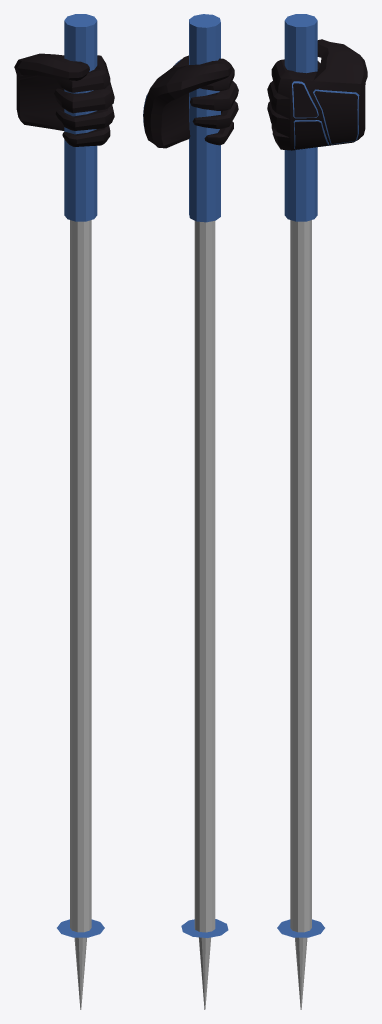
File: Za_Hando (2).fbx
The picture shows the model from 3 angles, left to right: view 1: azimuth 90°, elevation 25°; view 2: azimuth 150°, elevation 25°; view 3: azimuth 270°, elevation 25°; orthographic projection.
Parts seen in each view (by area): view 1: Stick.001, Cube.001, Stick, Spike; view 2: Stick.001, Cube.001, Stick, Spike; view 3: Stick.001, Cube.001, Stick, Edges, Spike.
Part boxes in pixels (x1,y1,x2,y2): Stick.001: [70, 220, 91, 932]; Cube.001: [14, 53, 114, 146]; Stick: [57, 14, 104, 937]; Spike: [74, 937, 86, 1009]; Stick.001: [194, 221, 215, 932]; Cube.001: [143, 55, 238, 148]; Stick: [181, 14, 228, 937]; Spike: [198, 937, 211, 1009]; Stick.001: [290, 220, 311, 932]; Cube.001: [267, 39, 367, 150]; Stick: [277, 14, 324, 937]; Edges: [292, 81, 359, 149]; Spike: [295, 937, 307, 1009].
Bounding box in the file's own units: 484 × 6819 × 628.
